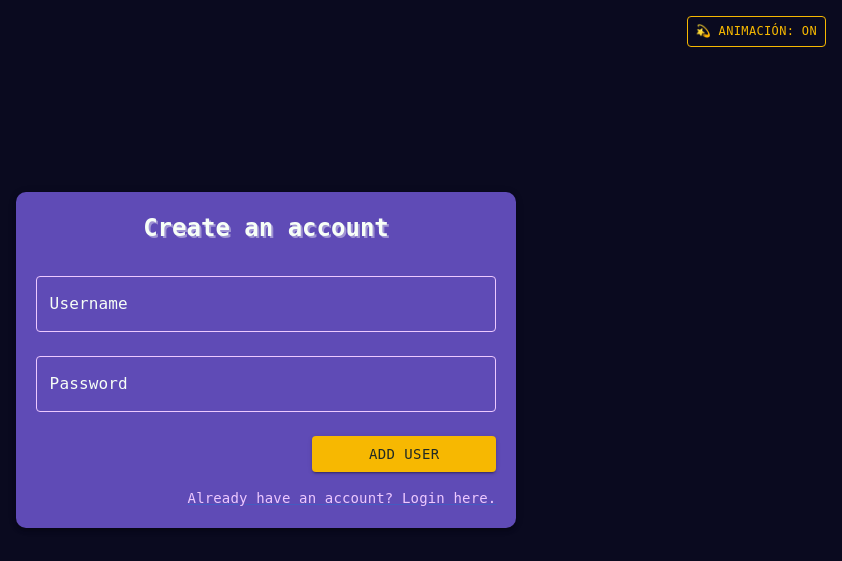
Test: AddUser component › should handle error when adding user
The width and height of the screenshot is (842, 561).
Type "testUser" into the field labelled "Username" at (266, 304), box left=36, top=276, right=496, bottom=332
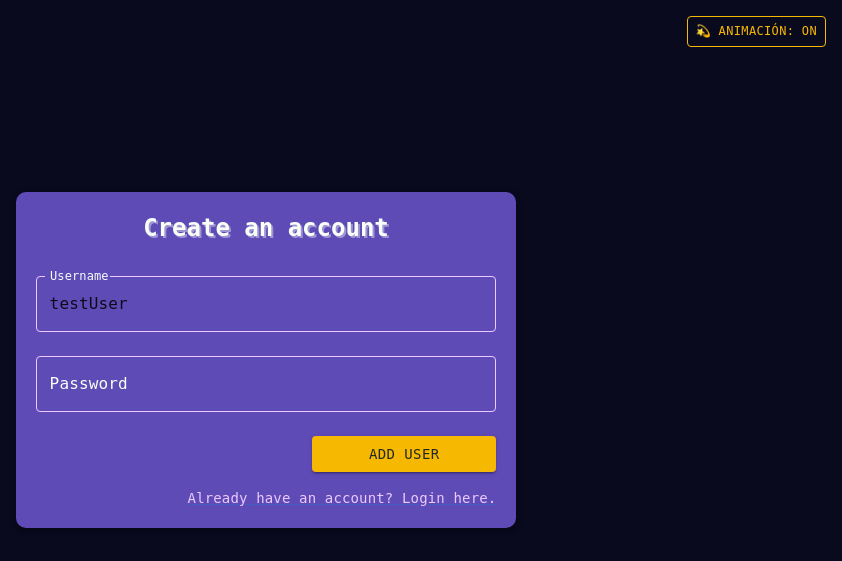
Type "testPassword" into the password field labelled "Password" at (266, 384), box left=36, top=356, right=496, bottom=412
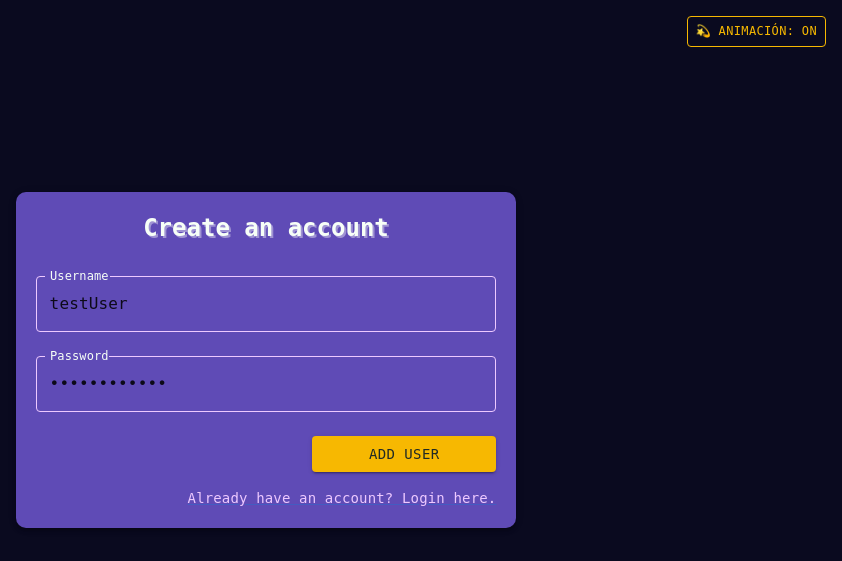
Click the button "Add User" at (404, 454), box left=312, top=436, right=496, bottom=472
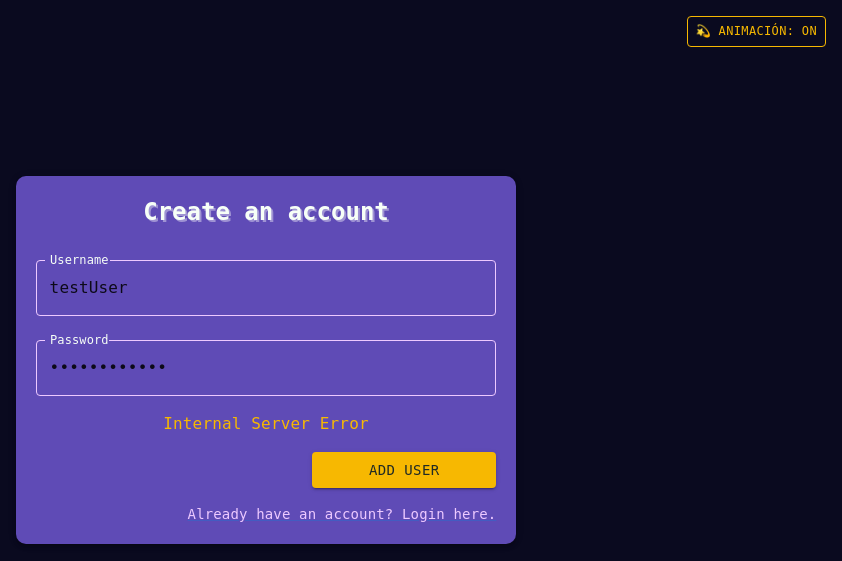
expect the text "Internal Server Error" is shown: met, box left=163, top=414, right=369, bottom=433
